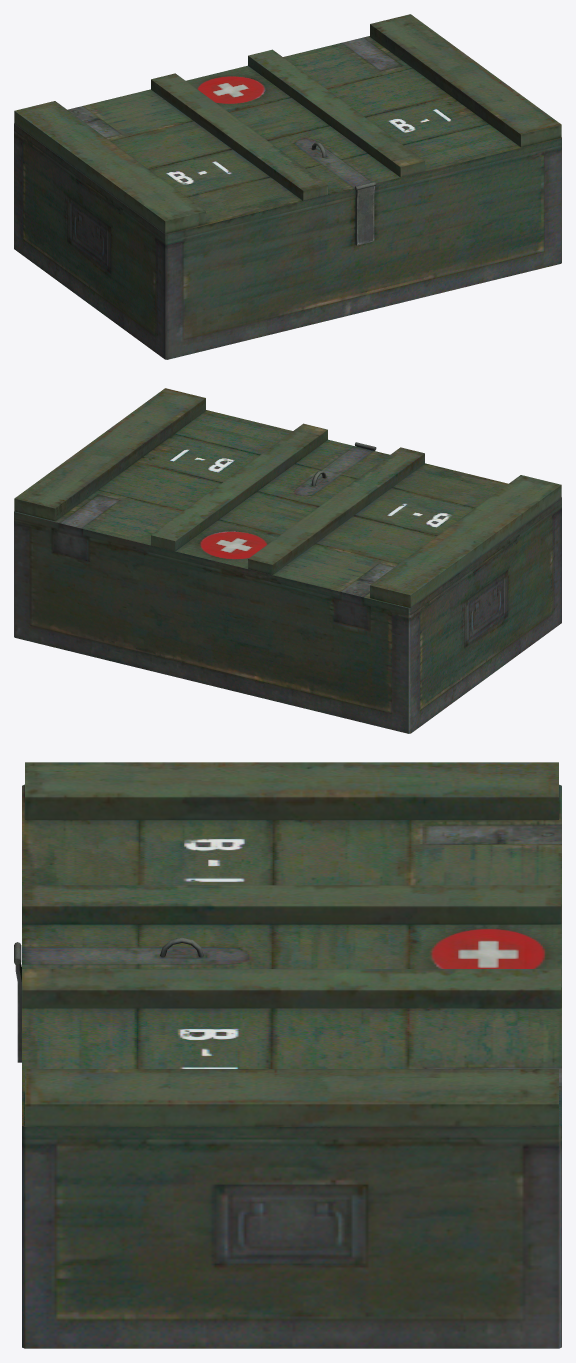
Rendered from VV_Medical_Crate.fbx.
3 views of the same model, one above another, from view 1: azimuth 30°, elevation 25°; view 2: azimuth 150°, elevation 25°; view 3: azimuth 270°, elevation 25° (orthographic). The views are drawn at different scales.
Visible parts, largest first — view 1: VV_Medical_Crate; view 2: VV_Medical_Crate; view 3: VV_Medical_Crate.
Part boxes in pixels (x1,y1,x2,y2): VV_Medical_Crate: [14, 14, 561, 359]; VV_Medical_Crate: [14, 388, 561, 733]; VV_Medical_Crate: [14, 762, 561, 1348].
Bounding box in the file's own units: 94.34 × 31.39 × 63.81.
Materials: 1 (1 with a texture image).
